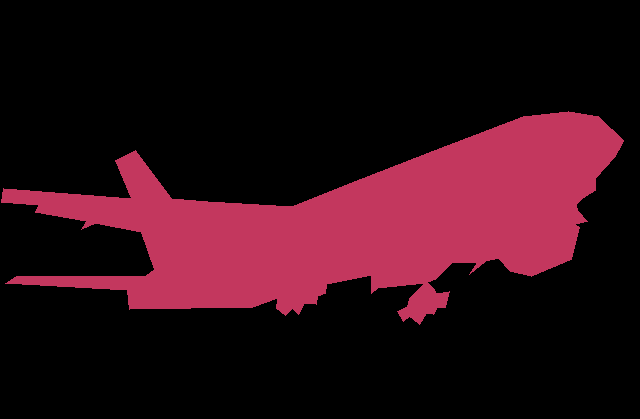Airplane: (1, 111, 623, 325)
